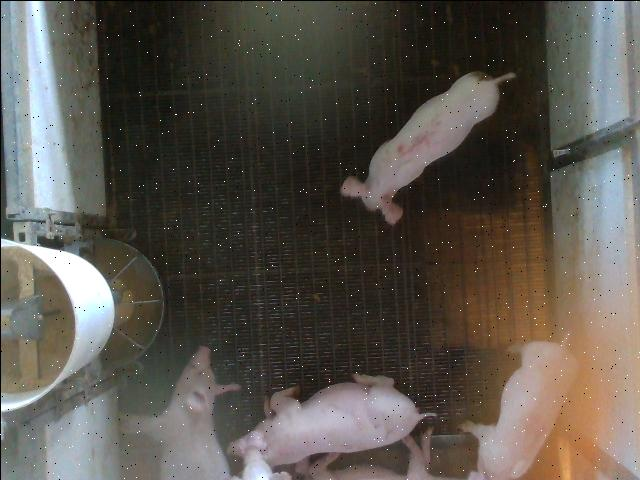pig-4: (460, 340, 578, 479)
pig-5: (340, 71, 513, 223)
